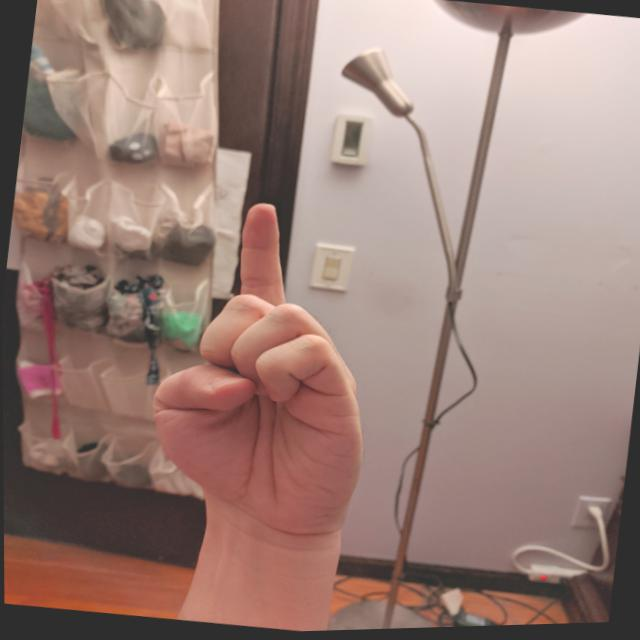D: (127, 185, 402, 560)
